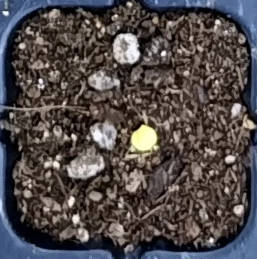pepper seed: (50, 47, 209, 200)
